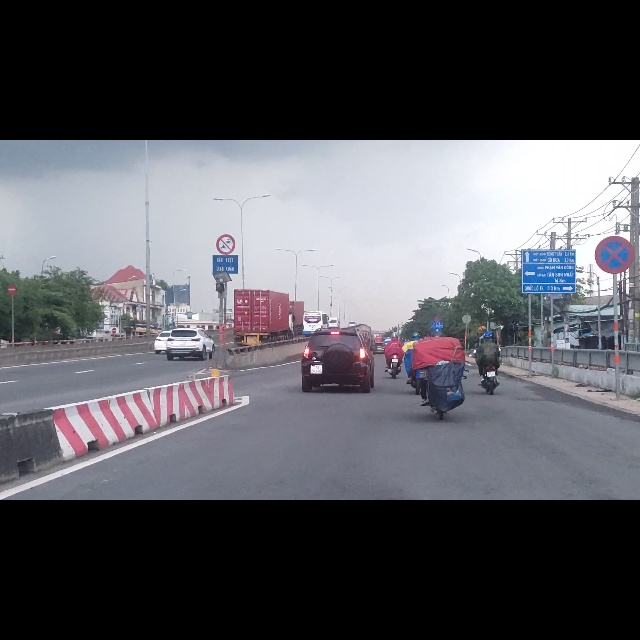bien_nguy_hiem: (594, 169, 634, 241), (216, 168, 236, 204), (8, 257, 17, 275), (112, 334, 116, 343)
